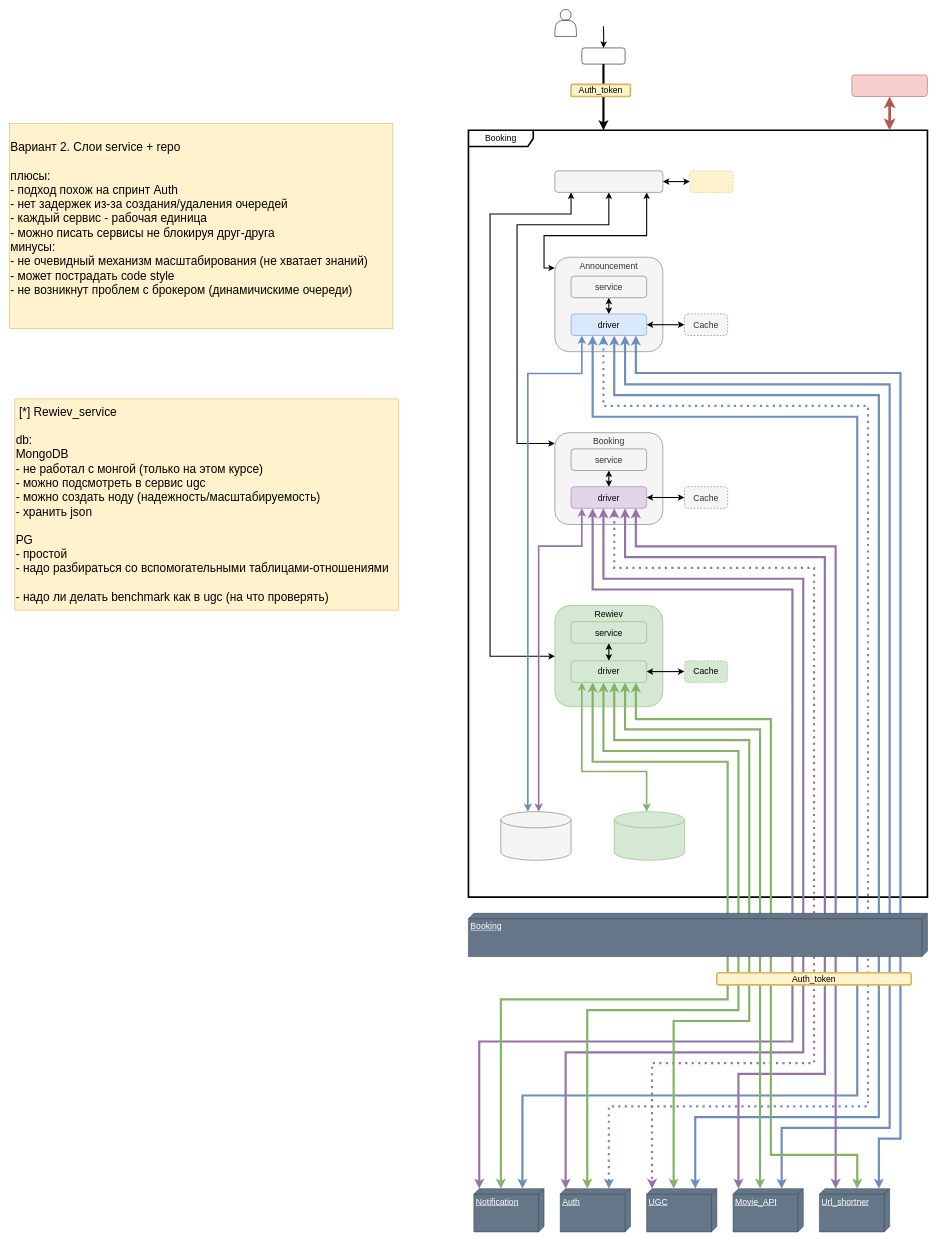
The diagram is 937 pixels wide and 1241 high, and some of its shapes have lost their labels. The shapes that lost their labels are listed below. From the top down, each one's centre as x and y in pixels, then its label:
the point at 603,55: Nginx
the point at 889,85: ELK
the point at 608,181: Booking_API
the point at 711,181: Cache ?
the point at 535,835: Booking_DB
the point at 649,835: Rewiev_DB
